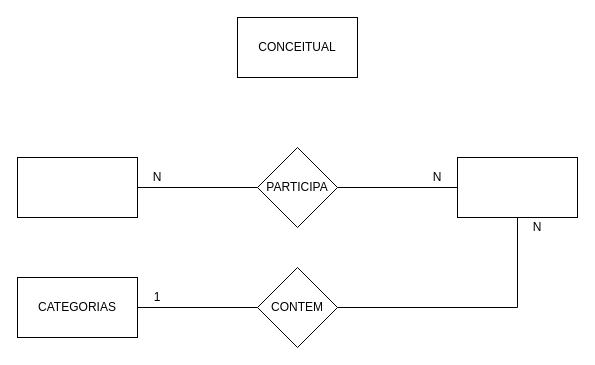
This 595x365 diagram has some shape labels left out. Here are the shapes that lost their labels. From the top down, the centre of each, then its label:
At point 77,187: "USUÁRIO".
At point 517,187: "EVENTOS".
